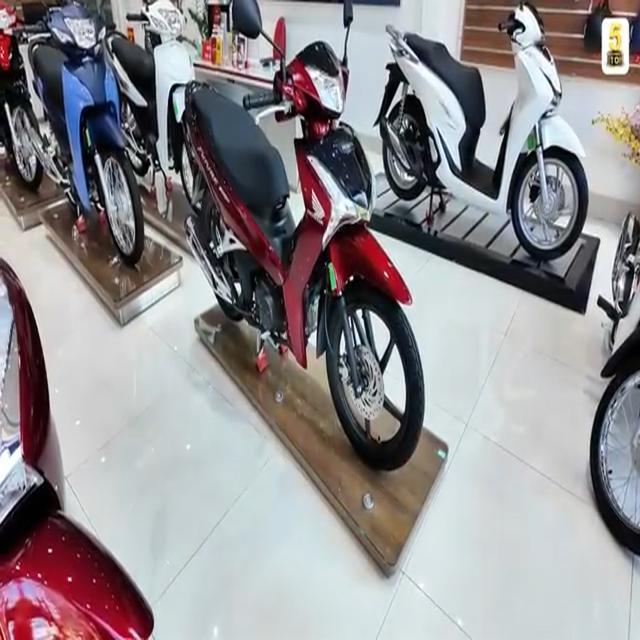motorcycle: (175, 0, 428, 475), (374, 3, 596, 264), (8, 4, 162, 275)
